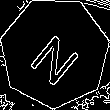N_NE: (24, 20, 86, 85)
